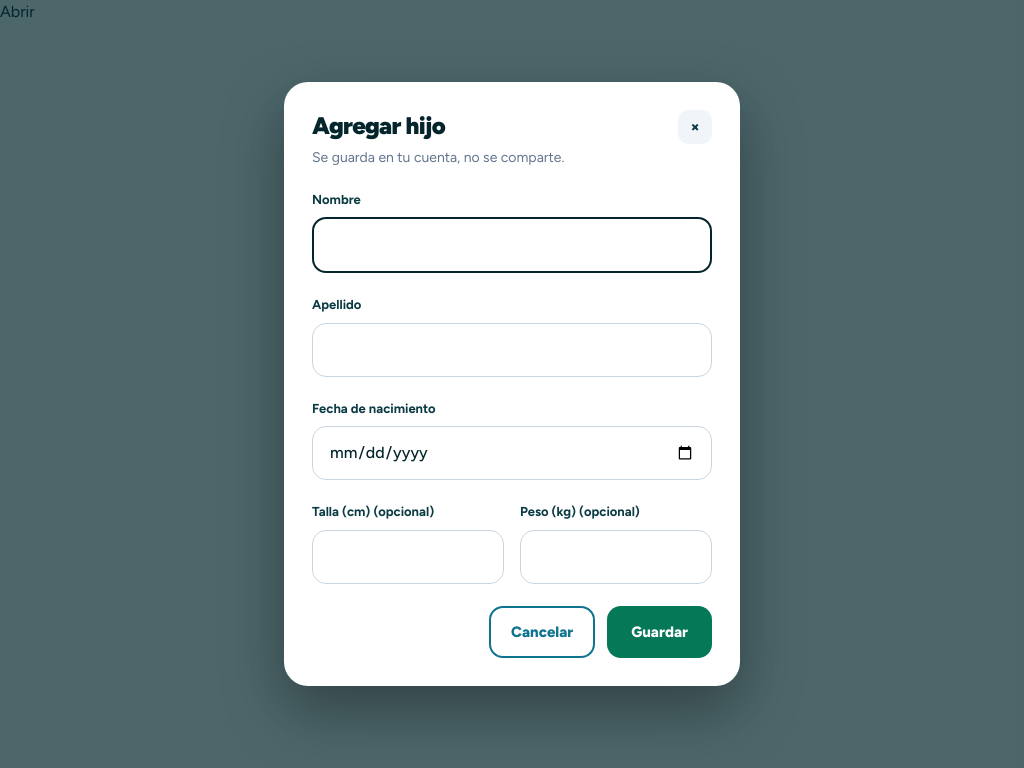
Test: AddChildModal › shows the server message when the save fails for another reason, keeping the data
In the field labelled "Nombre": (512, 245) [312,217,712,273], type "Luis"
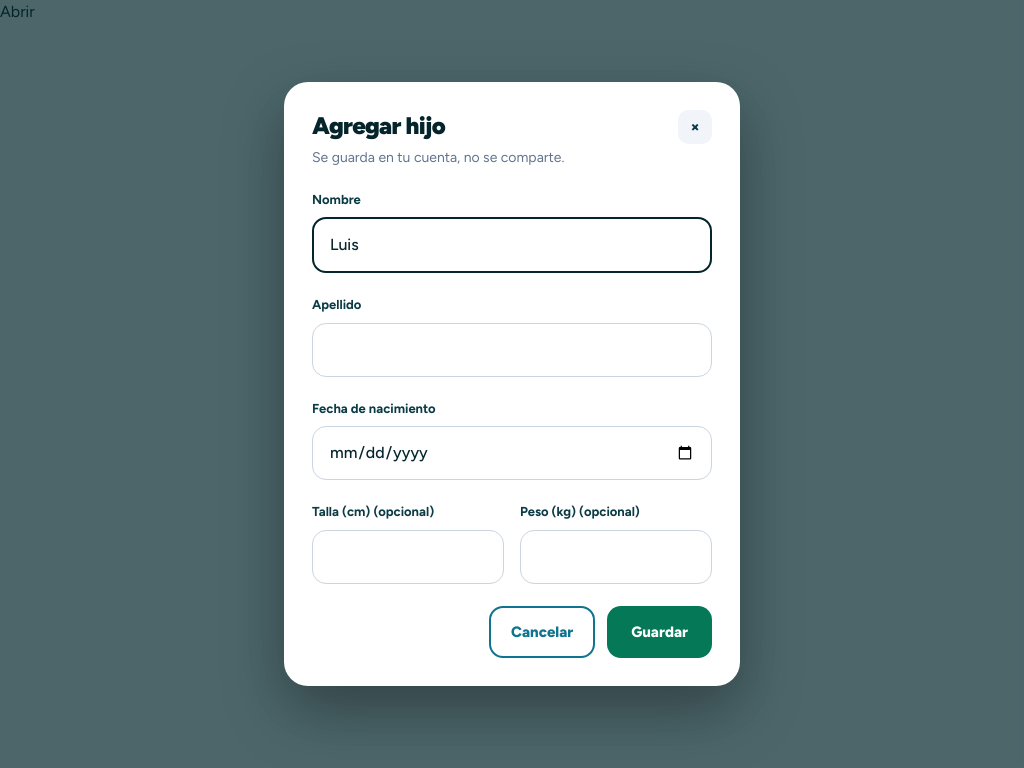
In the field labelled "Apellido": (512, 350) [312,323,712,377], type "Gómez"
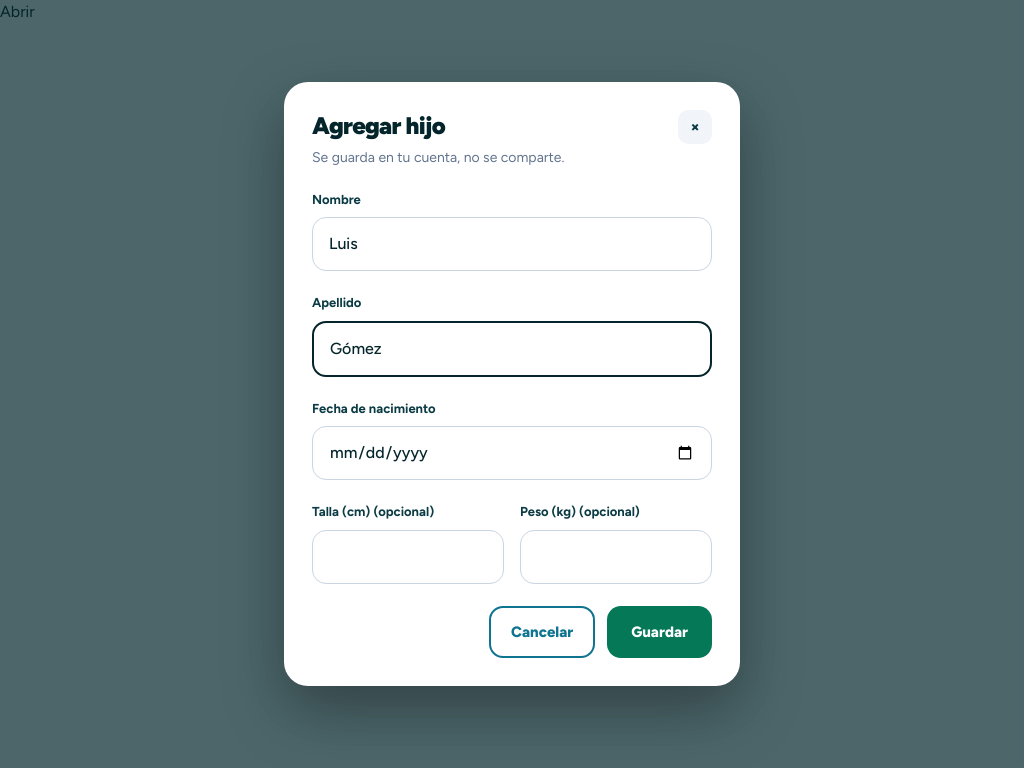
In the date field labelled "Fecha de nacimiento": (512, 453) [312,426,712,480], type "2020-01-15"
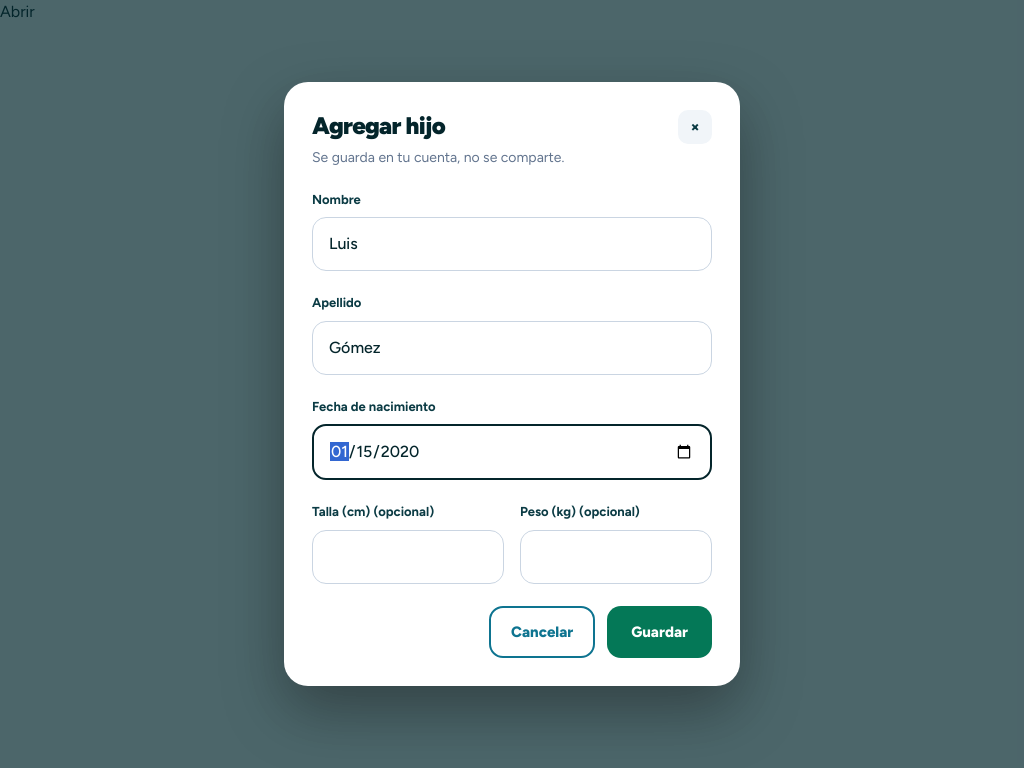
Click the button "Guardar": (660, 632) [607,606,712,658]
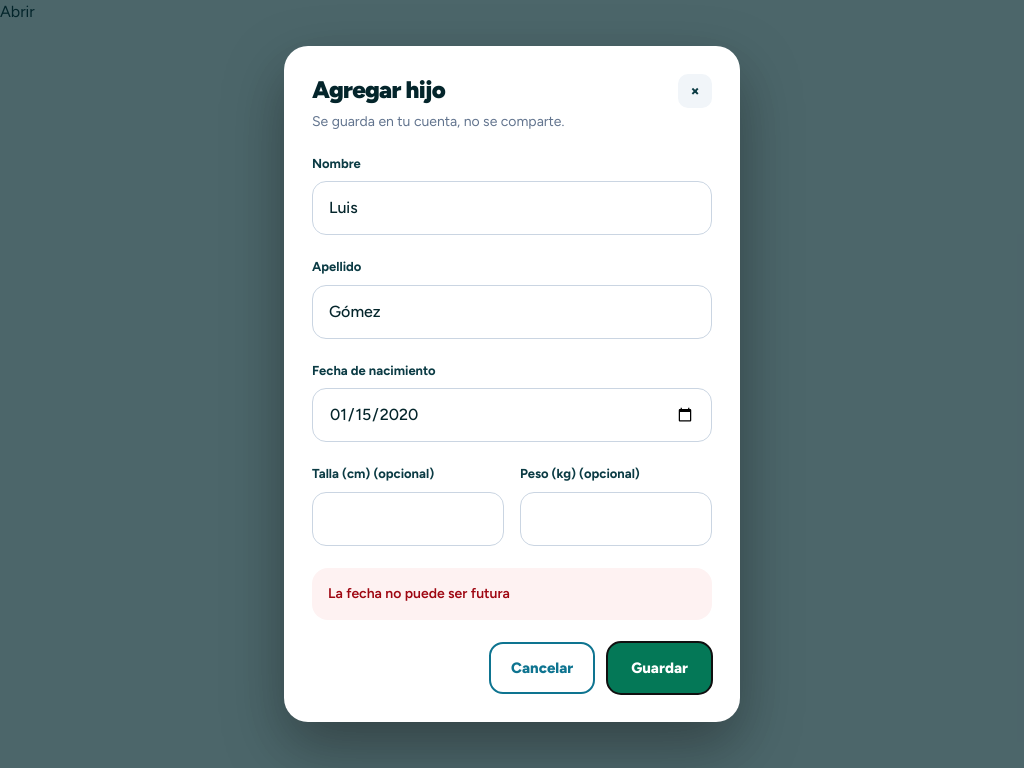
Now the text "La fecha no puede ser futura" is shown, box [312,568,712,620]
